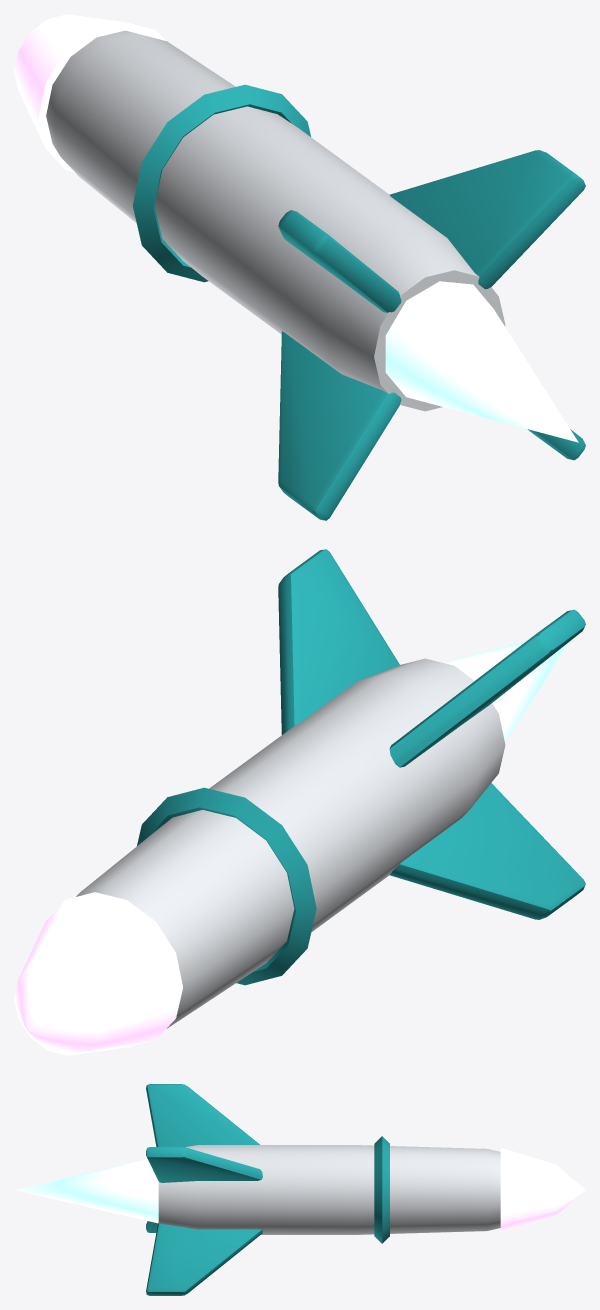
File: shot_homing.glb
The picture shows the model from 3 angles, top to bottom: view 1: azimuth 30°, elevation 25°; view 2: azimuth 150°, elevation 25°; view 3: azimuth 270°, elevation 25°; orthographic projection. The views are drawn at different scales.
Visible parts, largest first — view 1: shot_homing; view 2: shot_homing; view 3: shot_homing.
Part boxes in pixels (x1,y1,x2,y2): shot_homing: [14, 14, 585, 520]; shot_homing: [14, 549, 585, 1055]; shot_homing: [15, 1084, 585, 1295].
Size of the model in its own units: 0.1248 by 0.1248 by 0.435.
